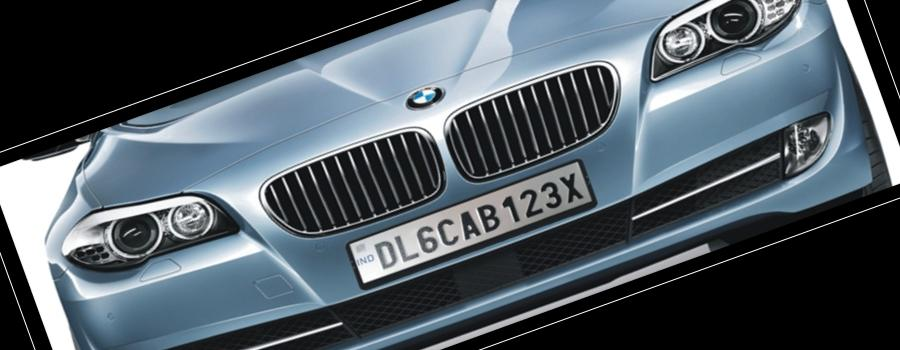plate: (329, 141, 619, 308)
